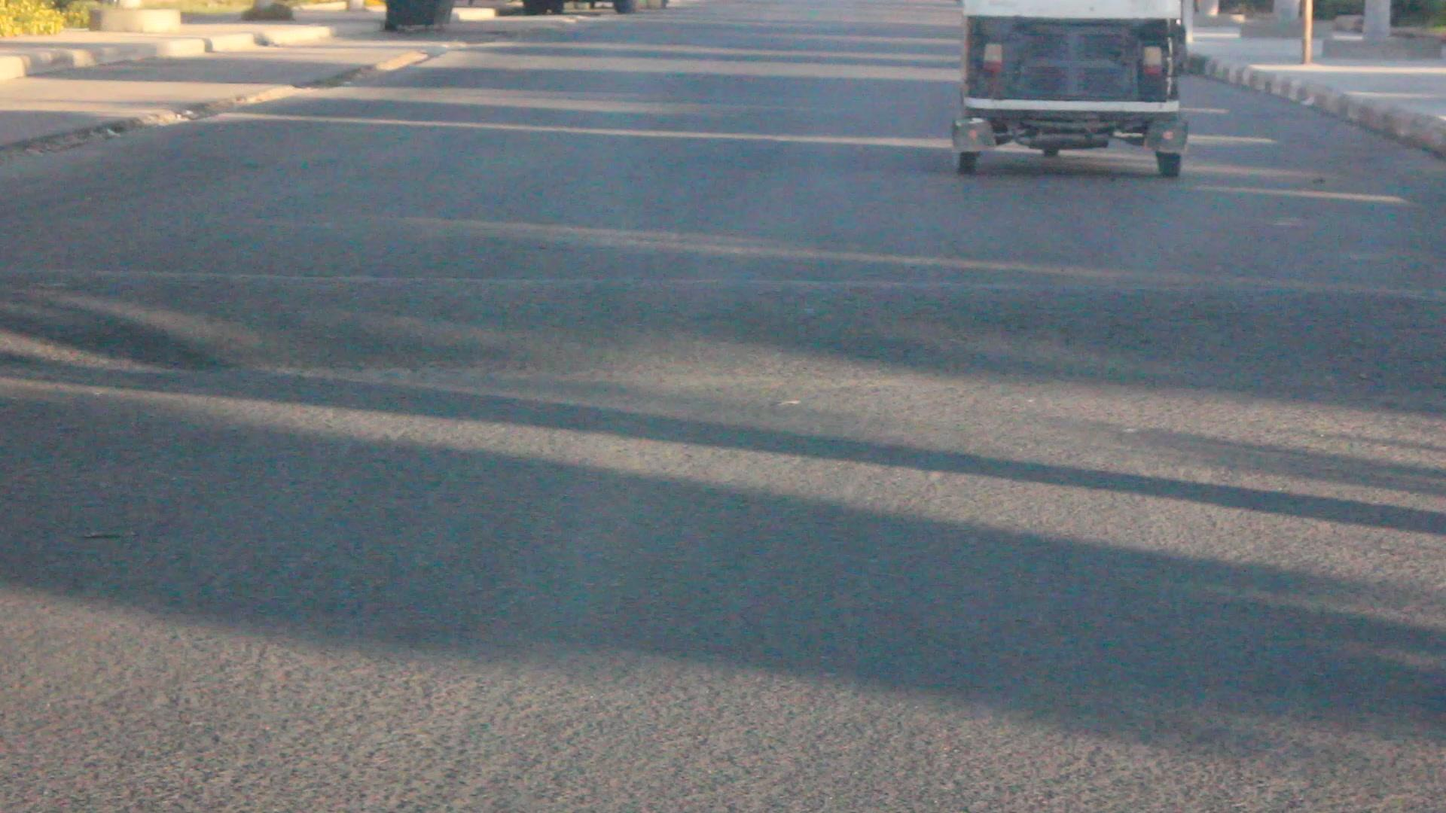Bump: (0, 271, 1445, 405)
